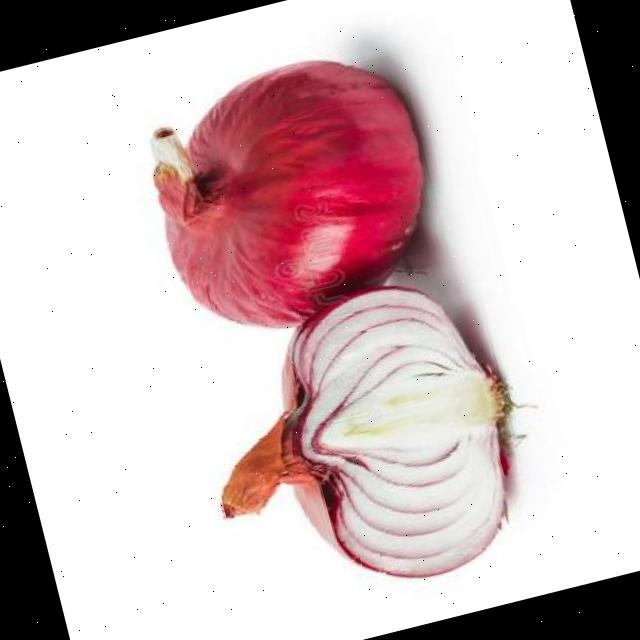Onion: (150, 58, 422, 325)
